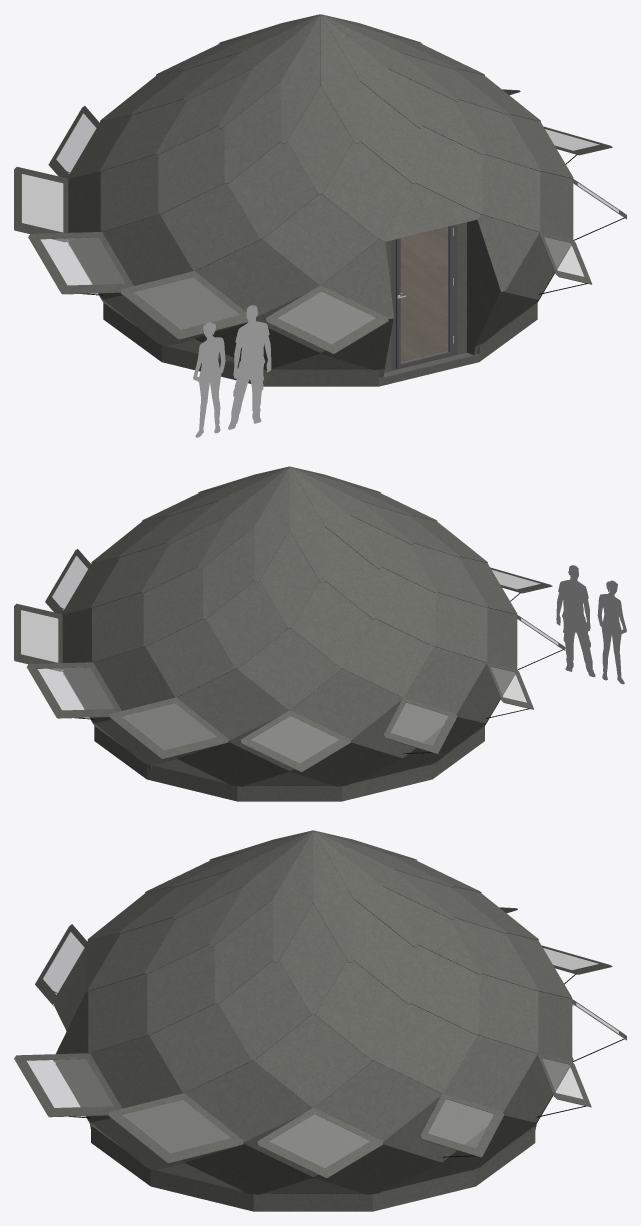
Rendered from zomes-studio2.glb.
3 renders of one model, top to bottom at view 1: azimuth 30°, elevation 25°; view 2: azimuth 150°, elevation 25°; view 3: azimuth 270°, elevation 25°, orthographic. The views are drawn at different scales.
Parts seen in each view (by area): view 1: entry-L1-center, door, floor, panel-L1-E-1, man, window-glass-C-2.001, panel-L1-F-2, window-glass-C-3.001, panel-L1-E-2, panel-L1-D-1, window-glass-C-1.001, panel-L1-F-1 (+51 smaller); view 2: entry-L1-center, entry-back-door, entry-door-off, panel-L1-E-5, window-glass-C-6.001, man, panel-L1-F-6, window-glass-C-7.001, panel-L1-D-4, window-glass-C-5.001, panel-L1-E-6, panel-L1-E-4 (+60 smaller); view 3: entry-L1-center, window-glass-C-10.001, panel-L1-E-9, panel-L1-F-9, panel-L1-D-8, window-glass-C-11.001, panel-L1-F-10, window-glass-C-9.001, panel-L1-D-9, panel-L1-E-8, panel-L1-E-10, panel-L1-F-11 (+60 smaller).
Boxes of the visible parts, x1=… form: entry-L1-center: x1=69, y1=183, x2=571, y2=378; door: x1=391, y1=224, x2=457, y2=370; floor: x1=400, y1=227, x2=447, y2=362; panel-L1-E-1: x1=262, y1=194, x2=377, y2=285; man: x1=193, y1=305, x2=271, y2=437; window-glass-C-2.001: x1=120, y1=271, x2=248, y2=339; panel-L1-F-2: x1=228, y1=141, x2=318, y2=238; window-glass-C-3.001: x1=28, y1=232, x2=133, y2=295; panel-L1-E-2: x1=160, y1=183, x2=256, y2=270; panel-L1-D-1: x1=195, y1=239, x2=308, y2=317; window-glass-C-1.001: x1=265, y1=285, x2=388, y2=353; panel-L1-F-1: x1=322, y1=141, x2=405, y2=238; entry-L1-center: x1=63, y1=673, x2=515, y2=794; entry-back-door: x1=93, y1=619, x2=277, y2=791; entry-door-off: x1=121, y1=717, x2=289, y2=794; panel-L1-E-5: x1=237, y1=628, x2=341, y2=710; window-glass-C-6.001: x1=110, y1=697, x2=228, y2=758; man: x1=556, y1=565, x2=626, y2=684; panel-L1-F-6: x1=206, y1=581, x2=287, y2=668; window-glass-C-7.001: x1=27, y1=662, x2=121, y2=719; panel-L1-D-4: x1=290, y1=669, x2=392, y2=739; window-glass-C-5.001: x1=240, y1=710, x2=350, y2=771; panel-L1-E-6: x1=146, y1=619, x2=230, y2=697; panel-L1-E-4: x1=343, y1=619, x2=424, y2=697; entry-L1-center: x1=53, y1=933, x2=535, y2=1203; window-glass-C-10.001: x1=108, y1=1093, x2=243, y2=1163; panel-L1-E-9: x1=253, y1=1015, x2=372, y2=1107; panel-L1-F-9: x1=315, y1=960, x2=406, y2=1060; panel-L1-D-8: x1=314, y1=1060, x2=430, y2=1141; window-glass-C-11.001: x1=14, y1=1053, x2=122, y2=1118; panel-L1-F-10: x1=218, y1=961, x2=310, y2=1060; window-glass-C-9.001: x1=257, y1=1107, x2=382, y2=1178; panel-L1-D-9: x1=185, y1=1060, x2=301, y2=1141; panel-L1-E-8: x1=374, y1=1003, x2=467, y2=1092; panel-L1-E-10: x1=149, y1=1003, x2=250, y2=1093; panel-L1-F-11: x1=147, y1=945, x2=214, y2=1034.
Size of the model in its own units: 8.15 by 4.12 by 7.96.
Materials: 19 (7 with a texture image).
